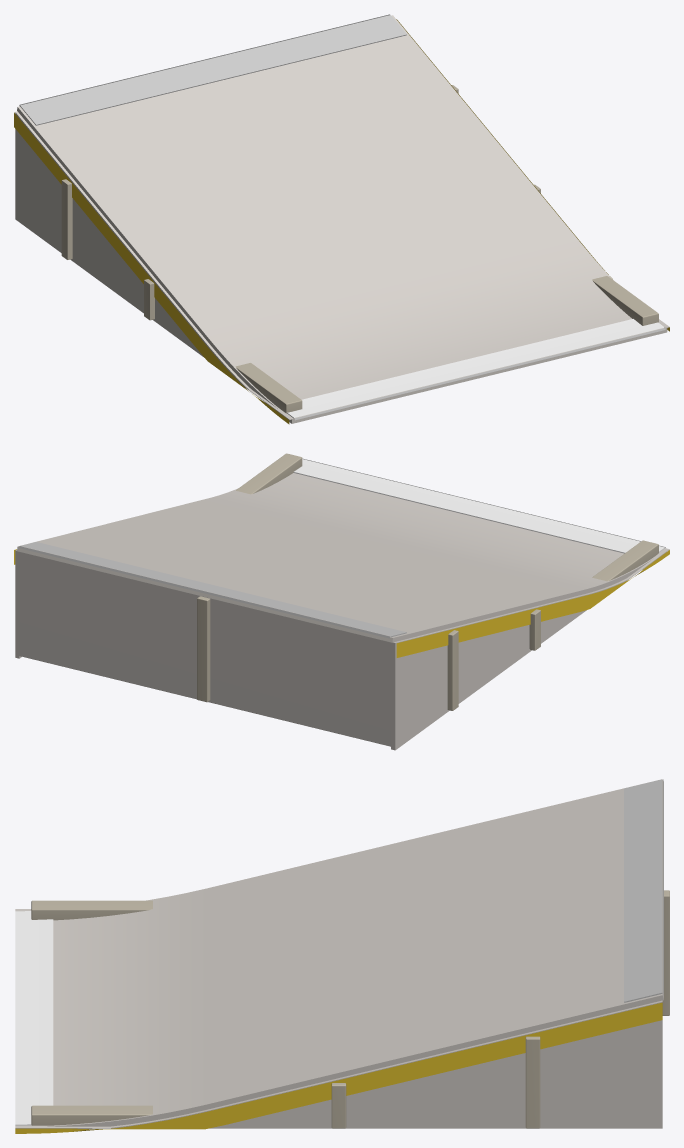
The model's file is sport.stunt.ramp_small.glb.
The picture shows the model from 3 angles, top to bottom: view 1: azimuth 30°, elevation 25°; view 2: azimuth 150°, elevation 25°; view 3: azimuth 270°, elevation 25°; orthographic projection. The views are drawn at different scales.
Parts seen in each view (by area): view 1: main__paint_fee, main__galv_ccc, main__steel_fff, main__paint_cba, main__paint_ec3; view 2: main__paint_fee, main__steel_fff, main__paint_cba, main__galv_ccc, main__paint_ec3; view 3: main__paint_fee, main__paint_ec3, main__galv_ccc, main__steel_fff, main__paint_cba.
Part boxes in pixels (bbox=[...]): main__paint_fee: bbox=[15, 15, 669, 423]; main__galv_ccc: bbox=[19, 14, 406, 125]; main__steel_fff: bbox=[287, 319, 665, 420]; main__paint_cba: bbox=[61, 85, 658, 413]; main__paint_ec3: bbox=[14, 19, 669, 424]; main__paint_fee: bbox=[15, 473, 669, 750]; main__steel_fff: bbox=[293, 458, 665, 553]; main__paint_cba: bbox=[197, 453, 658, 710]; main__galv_ccc: bbox=[19, 542, 406, 638]; main__paint_ec3: bbox=[14, 549, 669, 657]; main__paint_fee: bbox=[15, 779, 663, 1128]; main__paint_ec3: bbox=[15, 1002, 662, 1133]; main__galv_ccc: bbox=[624, 779, 663, 1002]; main__steel_fff: bbox=[15, 911, 53, 1125]; main__paint_cba: bbox=[31, 890, 669, 1128].
Size of the model in its own units: 1.65 by 0.4729 by 2.03.
